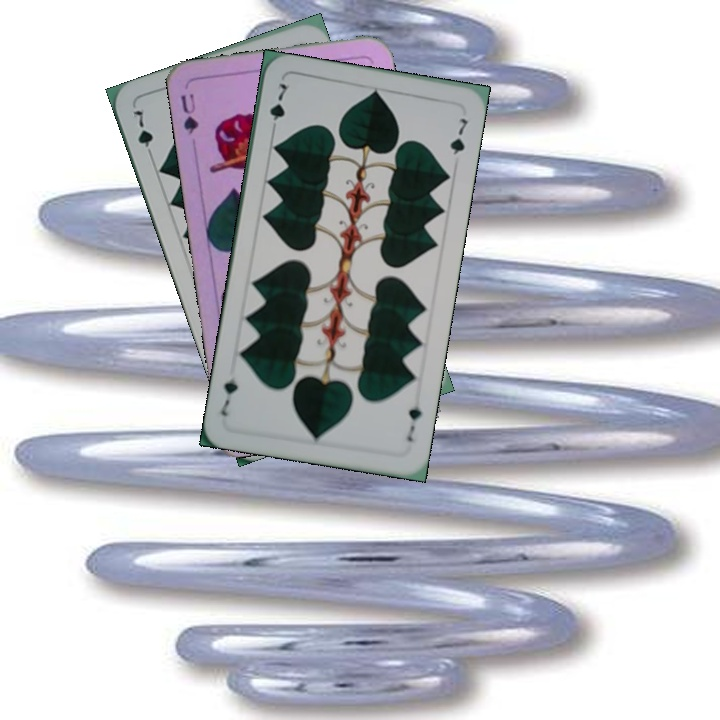G7: (128, 106, 156, 162), (265, 79, 292, 136), (403, 402, 425, 445)
GU: (176, 89, 202, 136)
